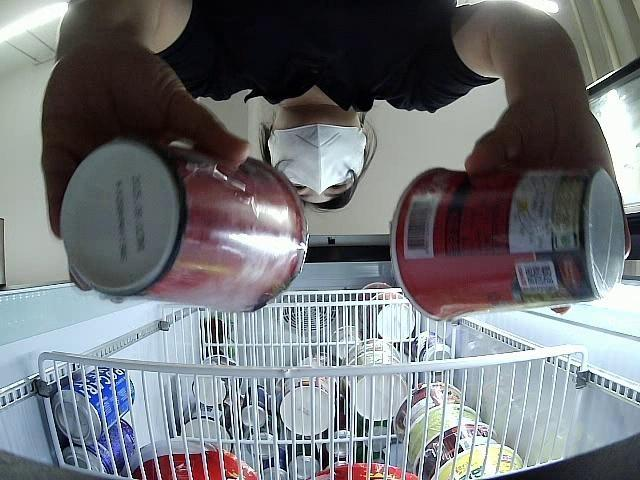02_shinRamen_S: (59, 136, 310, 316), (389, 165, 624, 322)
